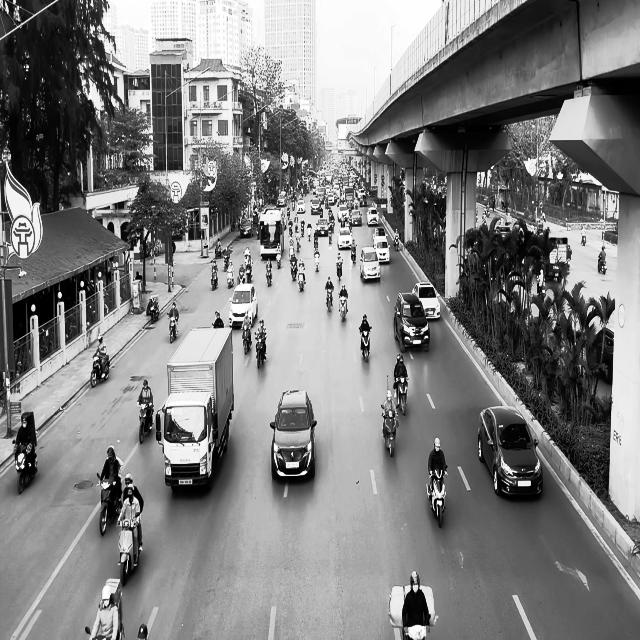bus: (259, 206, 284, 260)
car: (477, 405, 543, 498), (270, 389, 316, 480), (393, 292, 430, 352), (228, 283, 258, 329), (412, 281, 440, 320), (360, 247, 380, 282), (337, 227, 352, 249)
motorbike: (116, 512, 142, 586), (96, 472, 122, 535), (12, 439, 38, 494), (426, 466, 447, 528), (381, 404, 399, 457), (137, 398, 153, 443), (90, 354, 110, 387), (395, 375, 408, 415), (254, 332, 267, 368), (359, 326, 371, 362), (167, 312, 178, 343), (242, 325, 252, 354), (148, 296, 159, 322), (338, 294, 348, 321), (325, 286, 333, 312), (597, 254, 607, 274), (298, 268, 306, 291), (210, 268, 218, 290), (290, 257, 297, 280), (336, 257, 343, 280), (266, 265, 272, 287), (314, 249, 320, 271), (351, 244, 356, 263), (394, 236, 399, 252)
truck: (155, 326, 234, 492)
